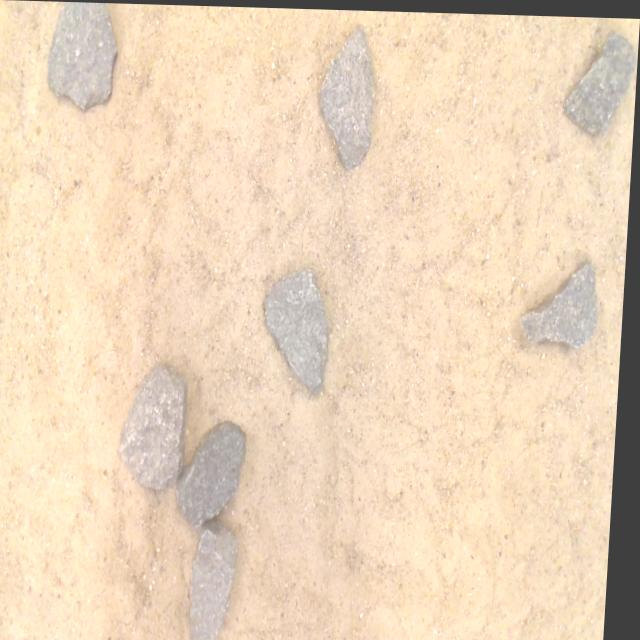rock: (125, 363, 191, 489), (269, 267, 332, 390), (321, 24, 375, 167), (49, 2, 117, 108), (183, 420, 251, 525), (566, 28, 636, 129), (524, 258, 600, 343), (197, 518, 245, 640)
